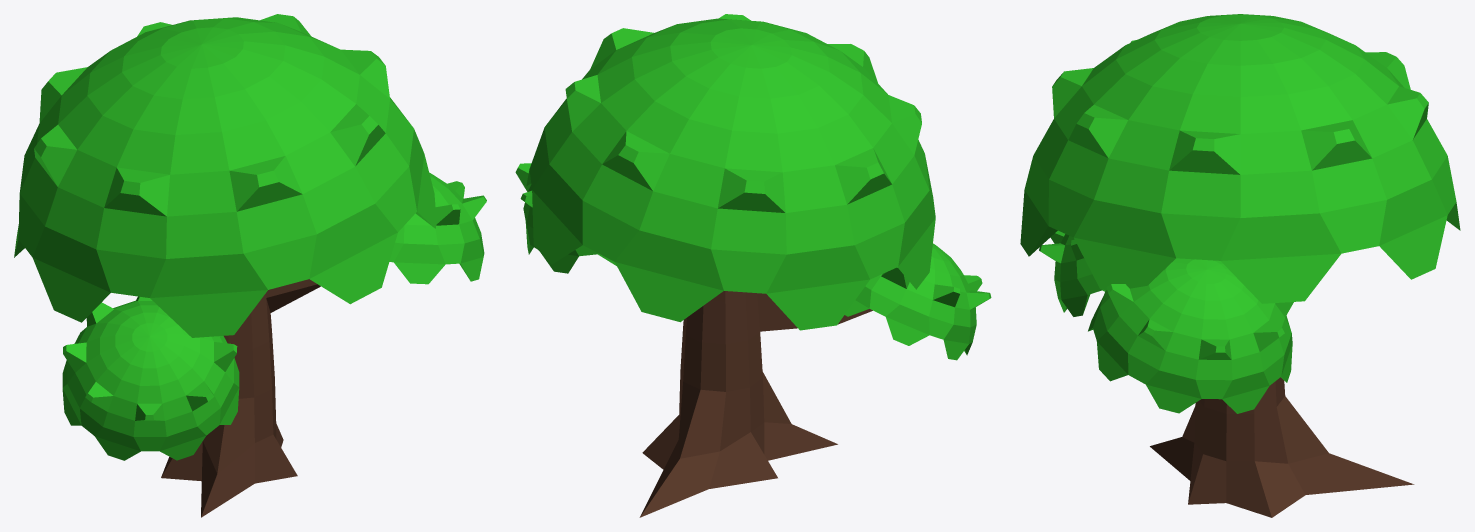
File: Tree2.fbx
3 renders of one model, left to right at view 1: azimuth 30°, elevation 25°; view 2: azimuth 150°, elevation 25°; view 3: azimuth 270°, elevation 25°, orthographic. The views are drawn at different scales.
Visible parts, largest first — view 1: Cylinder.001; view 2: Cylinder.001; view 3: Cylinder.001.
Part boxes in pixels (x1,y1,x2,y2): Cylinder.001: (14,14,486,517); Cylinder.001: (515,14,991,517); Cylinder.001: (1020,14,1460,517).
Size of the model in its own units: 11.18 by 10.68 by 9.54.
